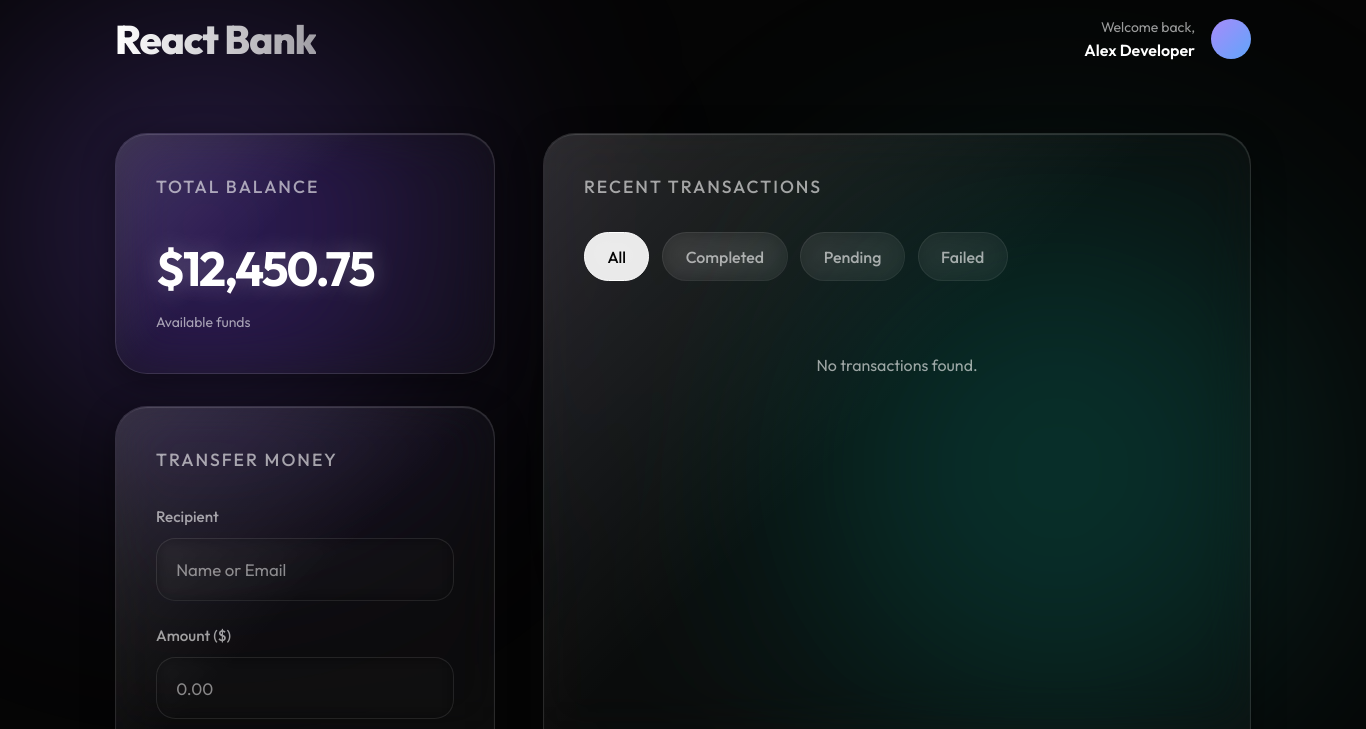
Test case: User Journey: Transfer Validation › Scenario: Negative amount
expect the heading "Total Balance" is shown: met, box top-left (156, 175), bottom-right (319, 198)
Fill in the form with invalid negative amount
Type "Jane Doe" into the field with placeholder "Name or Email". click: (305, 569)
box: top-left (156, 538), bottom-right (454, 601)
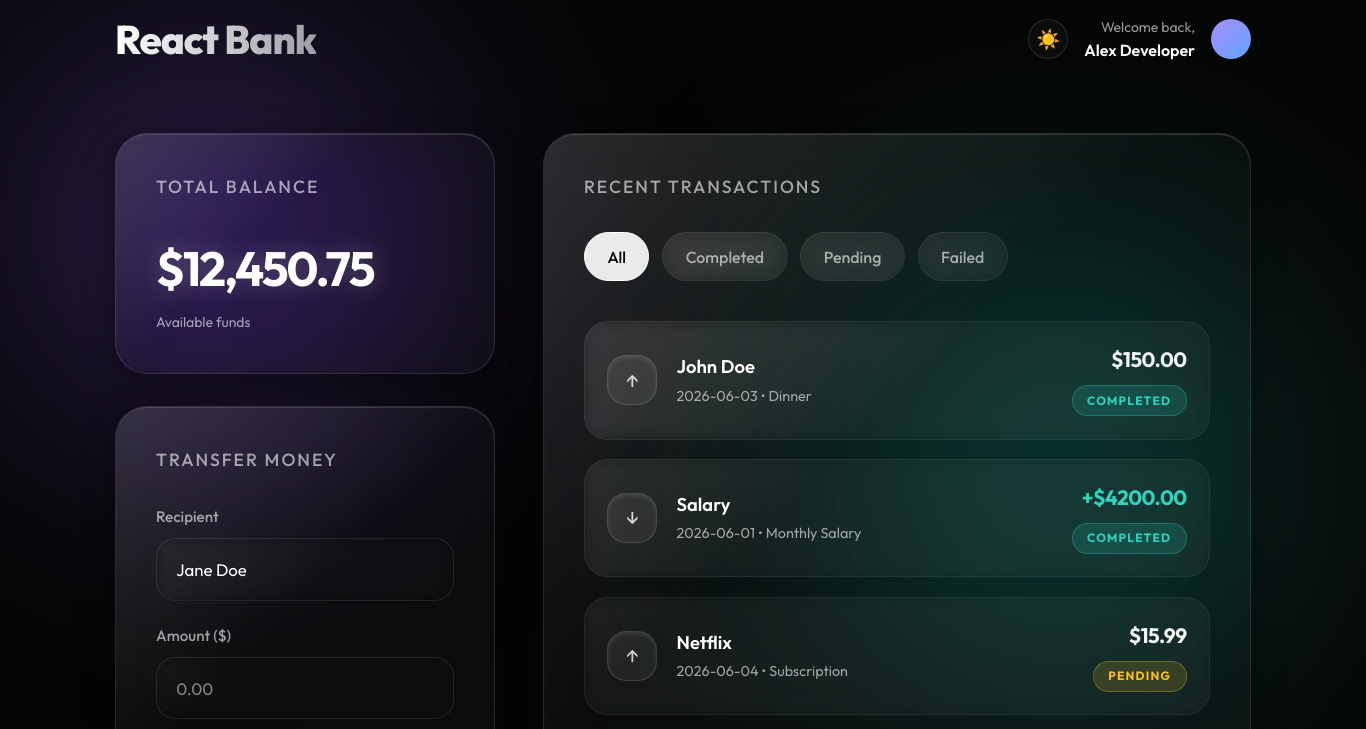
Type "-100.75" into the number field with placeholder "0.00". click: (305, 688)
box: top-left (156, 657), bottom-right (454, 719)
(page scrolled)
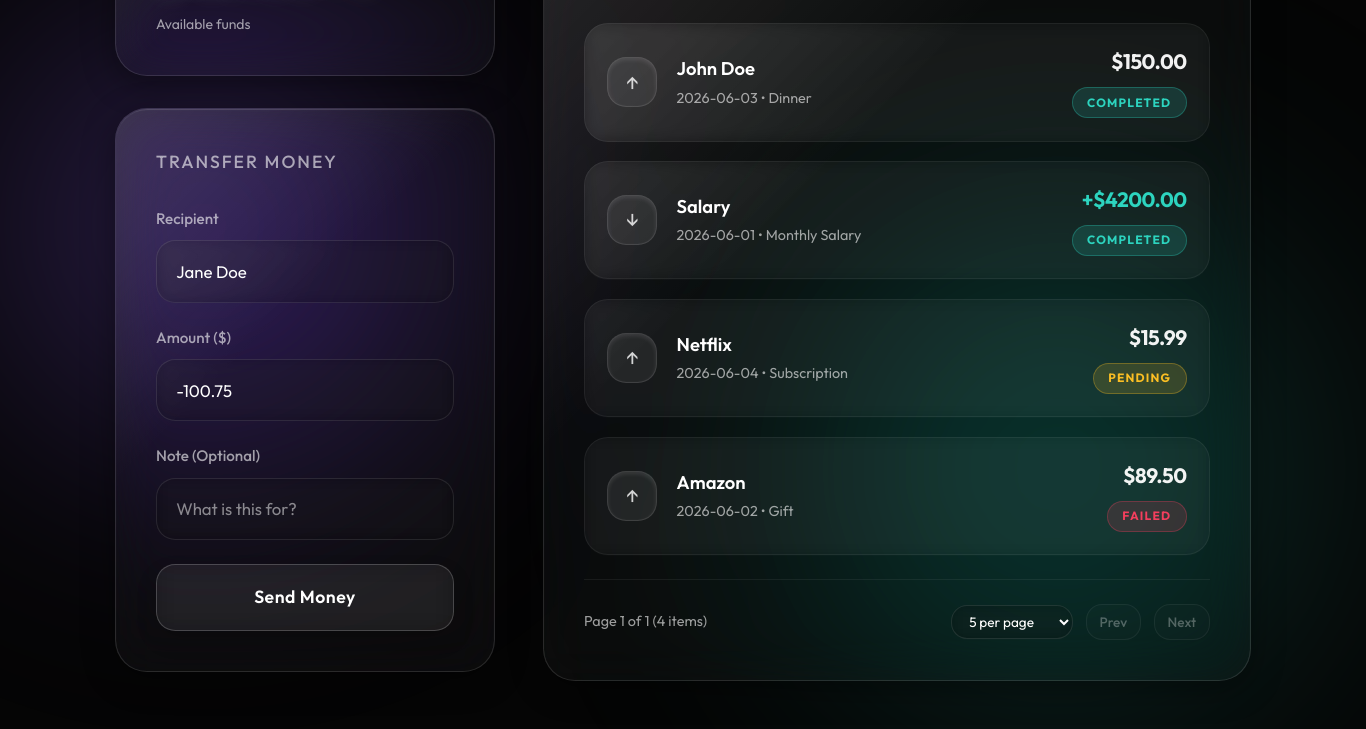
Type "Test transfer with negative amount" into the field with placeholder "What is this for?". click: (305, 509)
box: top-left (156, 478), bottom-right (454, 540)
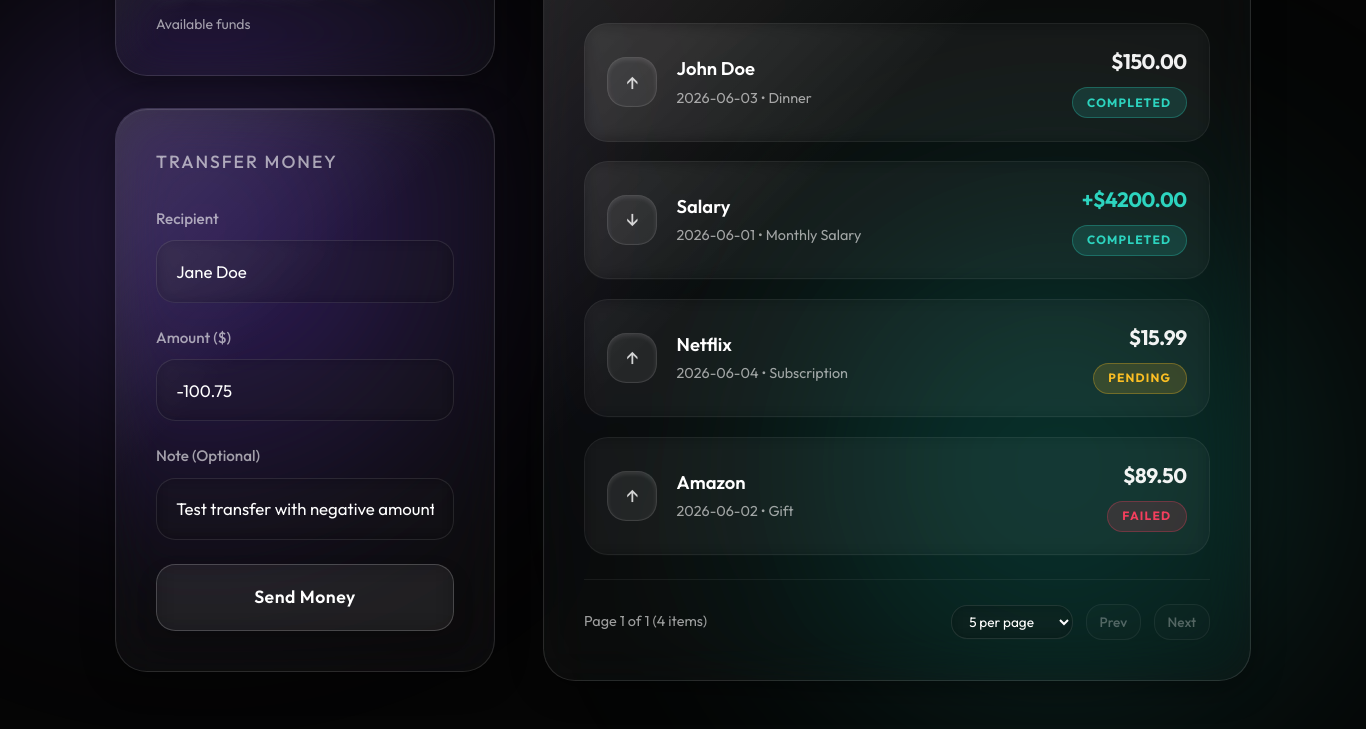
Simulate form submission
Click the button "Send Money". click: (305, 598)
box: top-left (156, 564), bottom-right (454, 631)
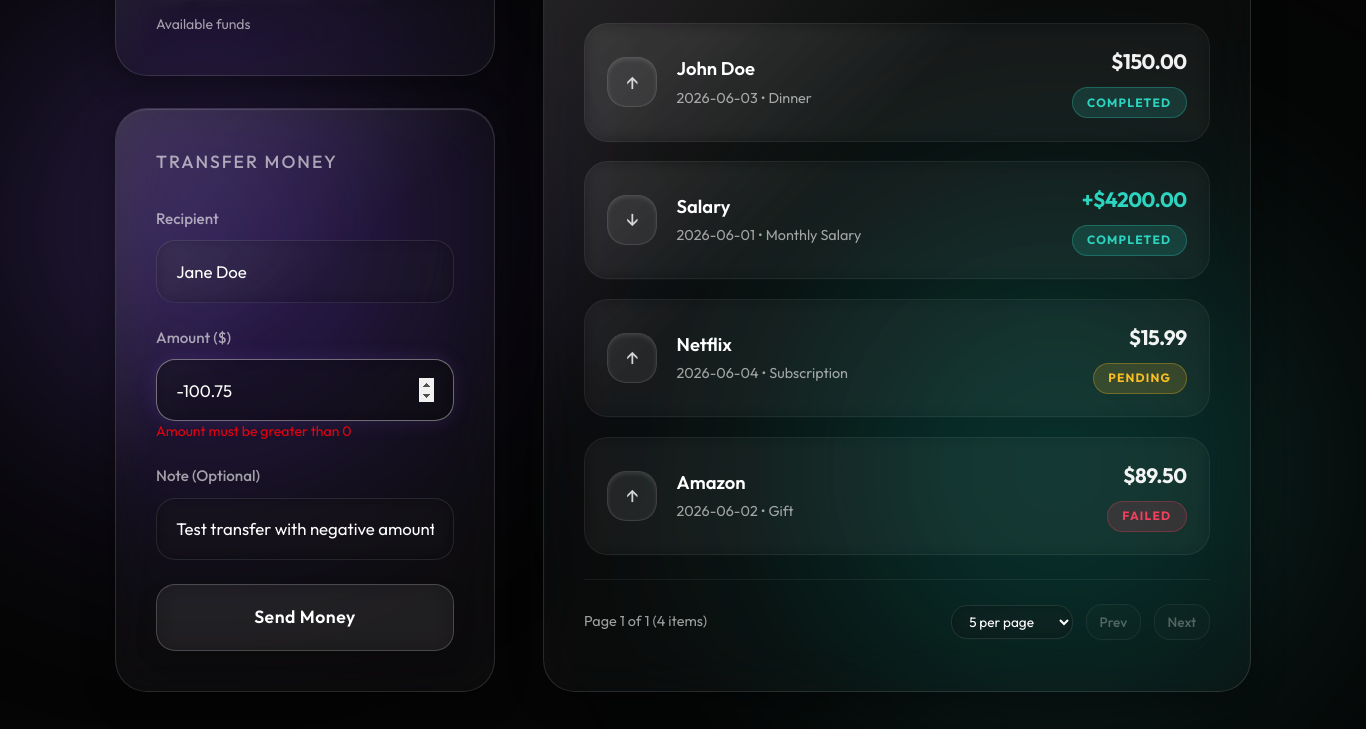
expect the text "Amount must be greater than 0" is shown: met, box top-left (156, 422), bottom-right (351, 440)
